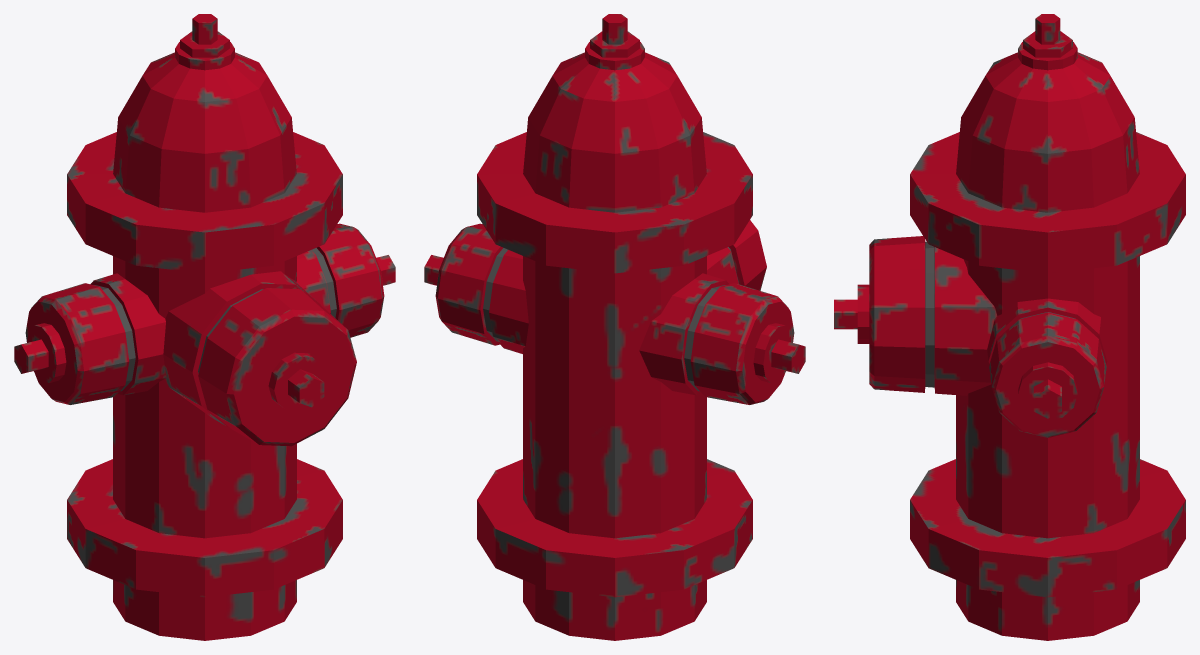
File: Hidrante.fbx
The picture shows the model from 3 angles, left to right: view 1: azimuth 30°, elevation 25°; view 2: azimuth 150°, elevation 25°; view 3: azimuth 270°, elevation 25°; orthographic projection.
Visible parts, largest first — view 1: HidranteVermelho; view 2: HidranteVermelho; view 3: HidranteVermelho.
Part boxes in pixels (bbox=[...]): HidranteVermelho: bbox=[14, 14, 395, 640]; HidranteVermelho: bbox=[424, 14, 805, 640]; HidranteVermelho: bbox=[834, 14, 1185, 640].
Bounding box in the file's own units: 50.76 × 77.04 × 42.08.
